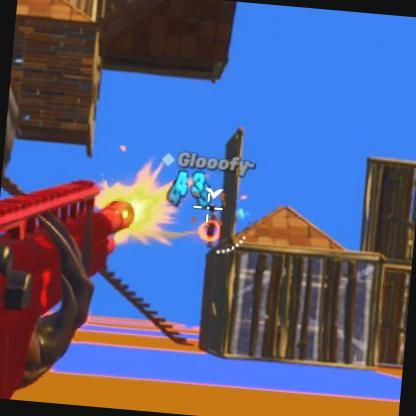person: (199, 204, 220, 248)
